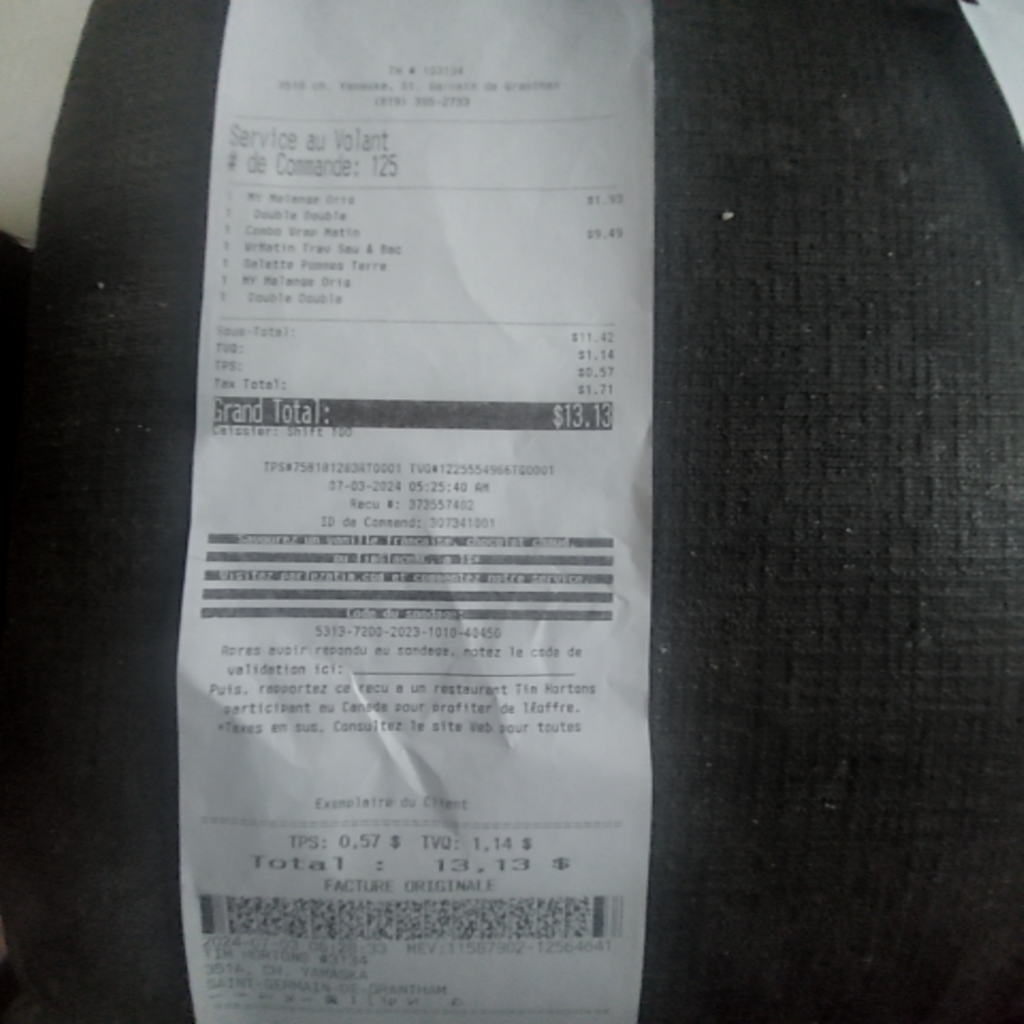recipt: (176, 0, 657, 1011)
